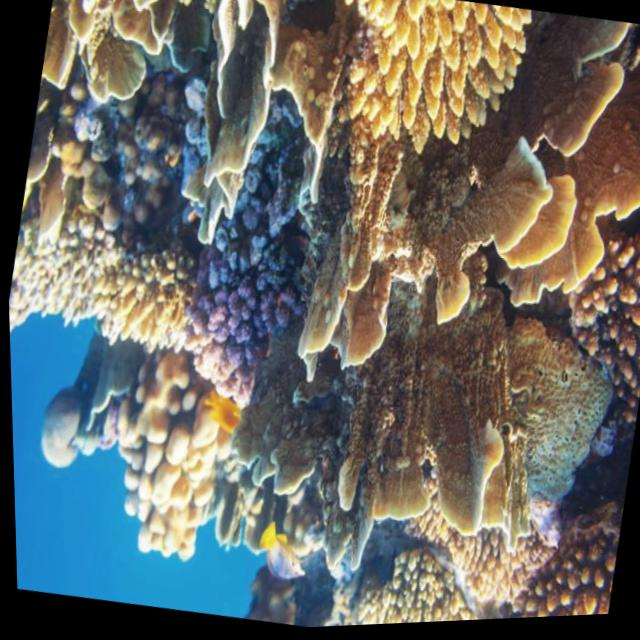Healthy Coral: (247, 0, 640, 483), (211, 0, 640, 433), (325, 292, 571, 572), (4, 156, 197, 371), (145, 0, 296, 261), (306, 0, 533, 173), (81, 351, 244, 583), (152, 201, 307, 403), (31, 0, 185, 144), (495, 526, 617, 623), (337, 544, 468, 629)
